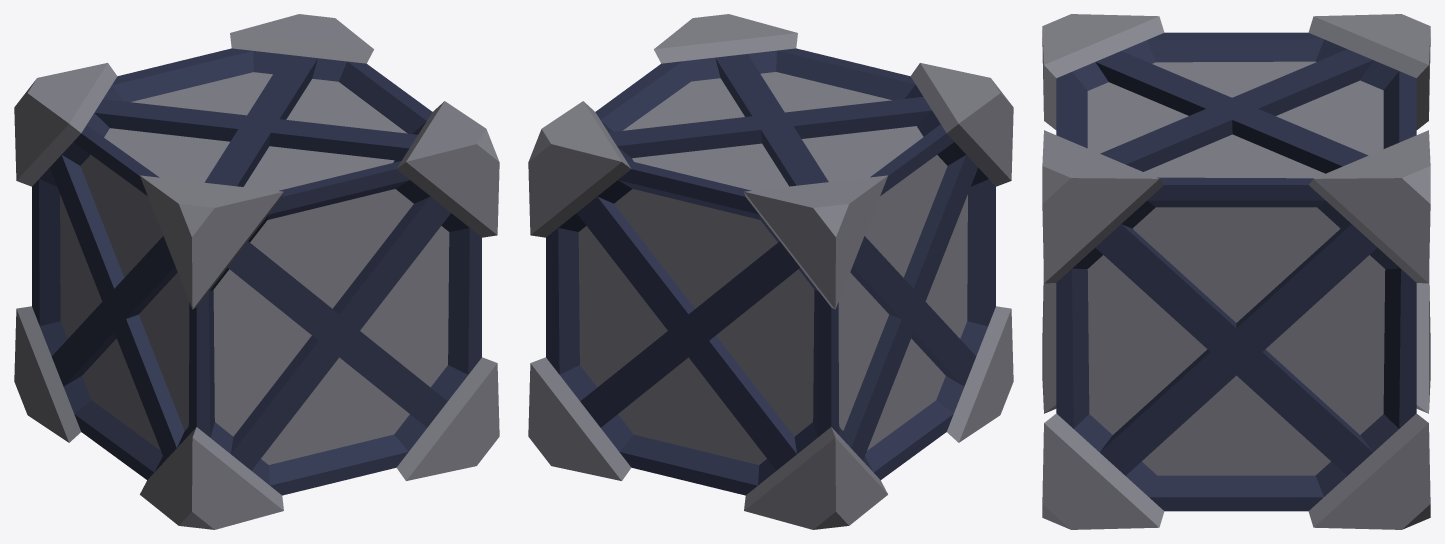
The model's file is Box_Normal.fbx.
The picture shows the model from 3 angles, left to right: view 1: azimuth 30°, elevation 25°; view 2: azimuth 150°, elevation 25°; view 3: azimuth 270°, elevation 25°; orthographic projection. The views are drawn at different scales.
Visible parts, largest first — view 1: Box_Normal; view 2: Box_Normal; view 3: Box_Normal.
Part boxes in pixels (left/top/right/bottom): Box_Normal: left=14, top=14, right=499, bottom=529; Box_Normal: left=528, top=14, right=1013, bottom=529; Box_Normal: left=1042, top=14, right=1430, bottom=529.
Size of the model in its own units: 146 by 146 by 146.
